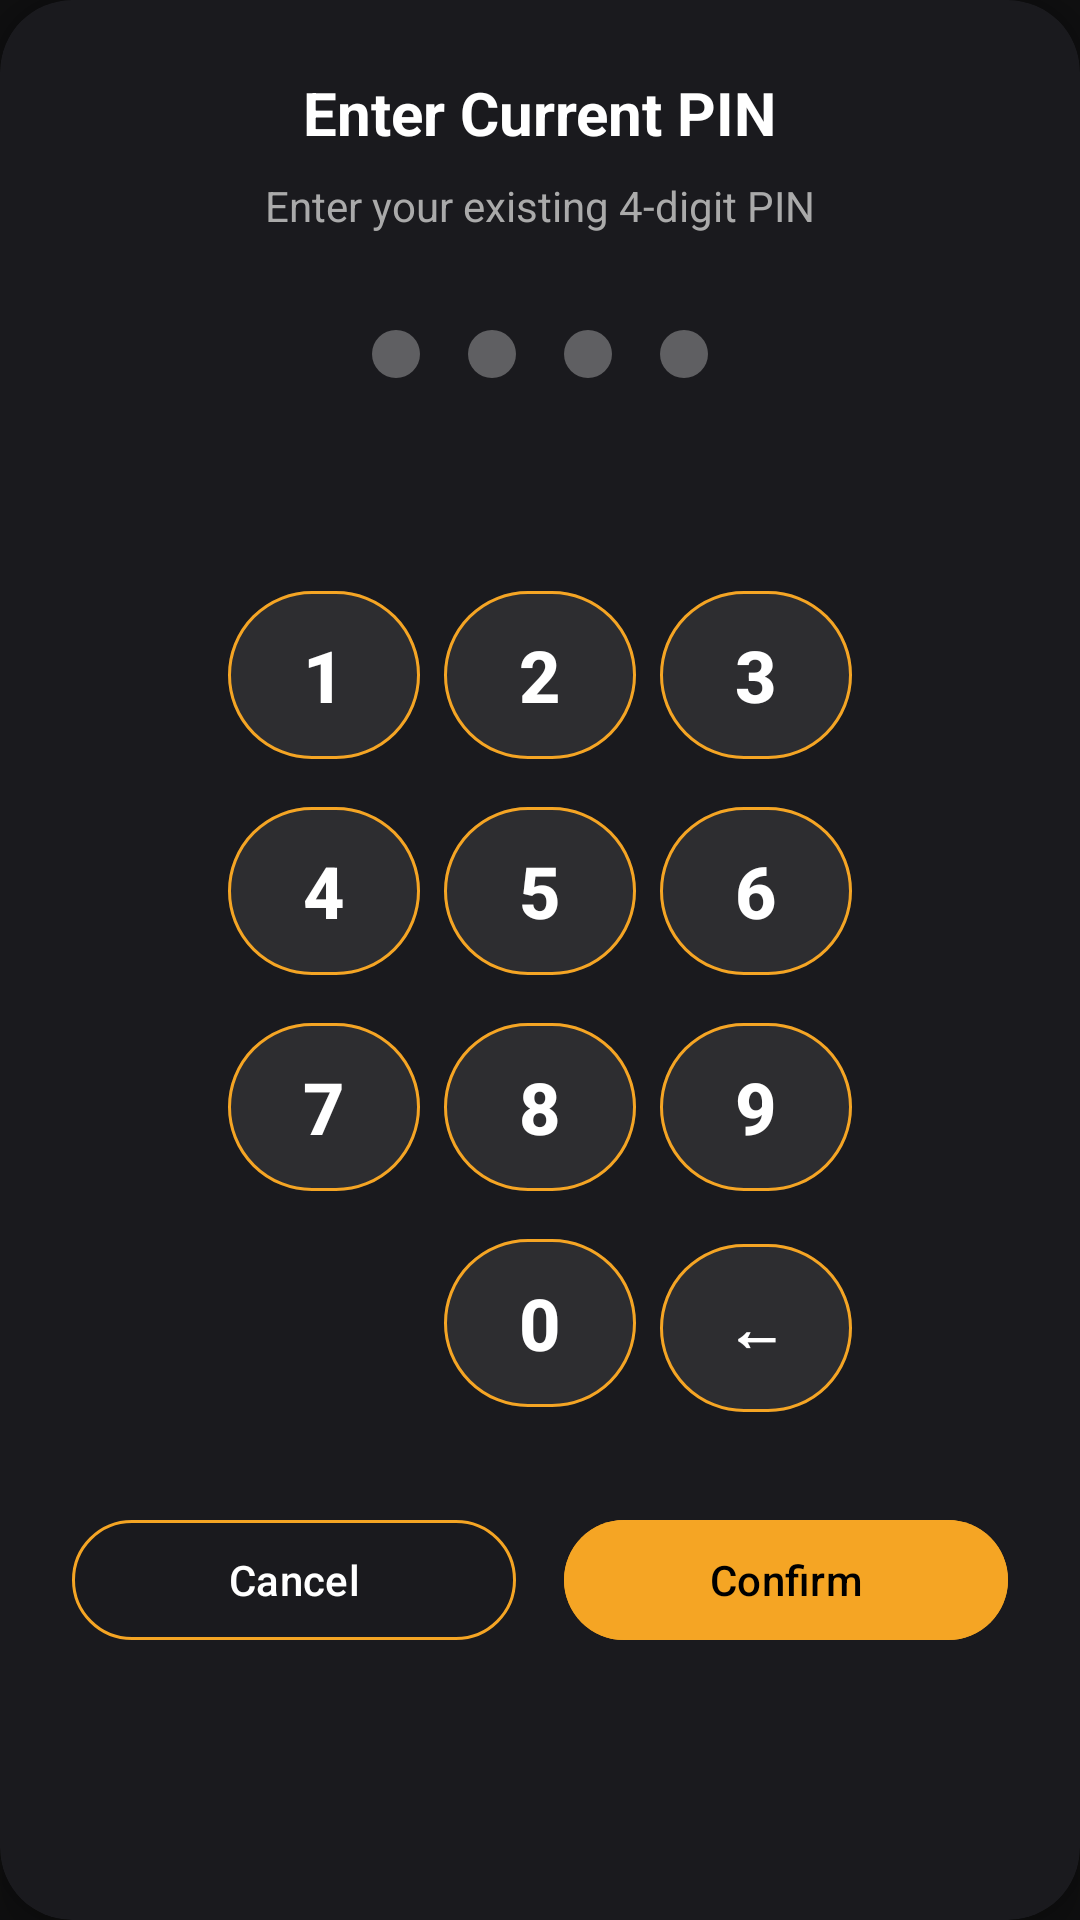

Where to tap for icons on this 1080x1920 app screen, as point (x, y):
pin dot empty: point (396, 354), point (492, 354), point (588, 354), point (684, 354)
